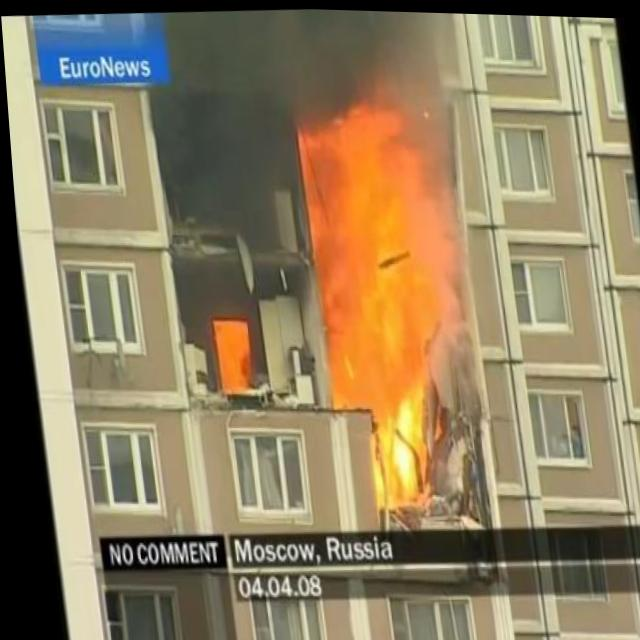fire: (291, 74, 480, 501), (210, 317, 253, 396)
